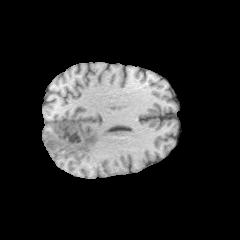glioma: (46, 120, 98, 153)
